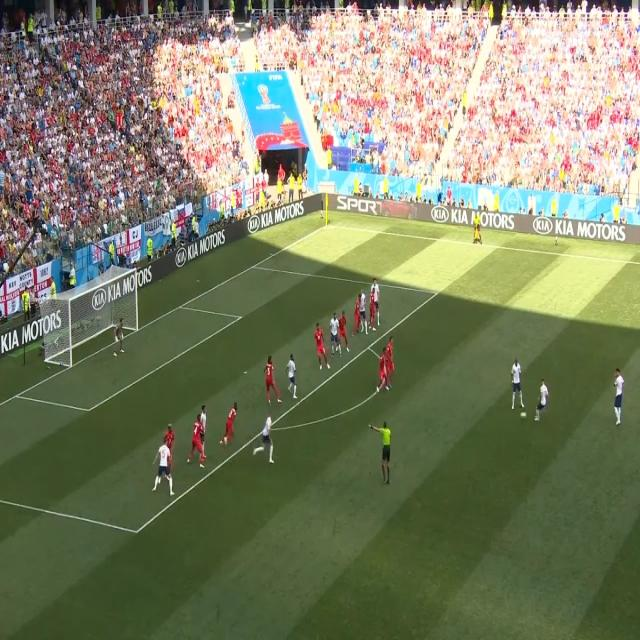ball: (520, 408, 528, 423)
player: (255, 415, 277, 466), (156, 438, 174, 500), (263, 349, 281, 409), (312, 323, 328, 373), (222, 403, 240, 447), (510, 355, 524, 408), (287, 348, 298, 401), (193, 419, 205, 466), (613, 367, 622, 427), (537, 376, 547, 423), (330, 312, 340, 358), (342, 308, 351, 356), (388, 339, 397, 378), (374, 278, 381, 327), (360, 292, 368, 334), (368, 290, 376, 332), (381, 347, 388, 393), (355, 290, 361, 337), (166, 423, 176, 445), (200, 405, 209, 427)
